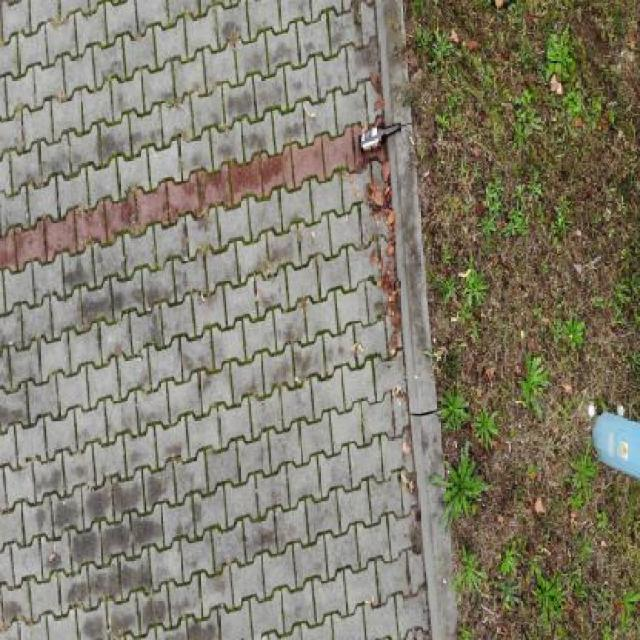Garbage: (358, 121, 401, 155)
